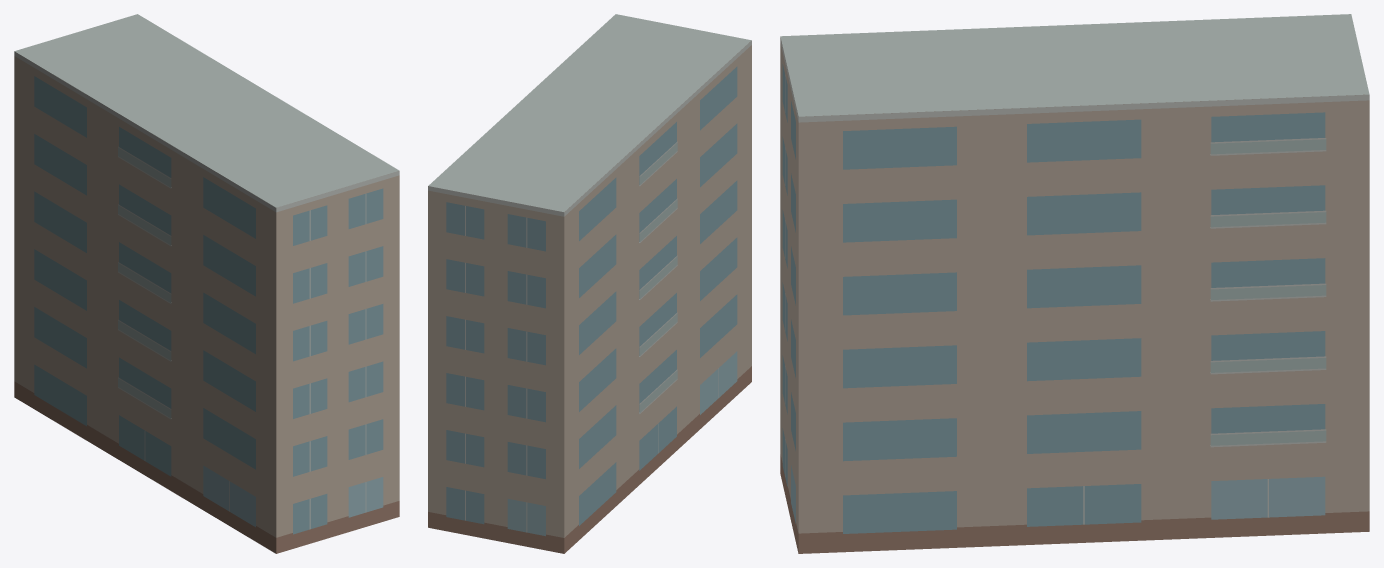
The model's file is survey-upis-32633219.glb.
3 renders of one model, left to right at view 1: azimuth 30°, elevation 25°; view 2: azimuth 150°, elevation 25°; view 3: azimuth 270°, elevation 25°, orthographic. The views are drawn at different scales.
Visible parts, largest first — view 1: survey-upis-32633219.tmp; view 2: survey-upis-32633219.tmp; view 3: survey-upis-32633219.tmp.
Boxes of the visible parts, x1=… form: survey-upis-32633219.tmp: x1=14, y1=14, x2=399, y2=553; survey-upis-32633219.tmp: x1=428, y1=14, x2=751, y2=553; survey-upis-32633219.tmp: x1=780, y1=14, x2=1369, y2=553.
Size of the model in its own units: 9.23 by 18.3 by 22.36.
